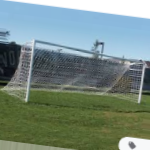goals: (1, 37, 147, 109)
